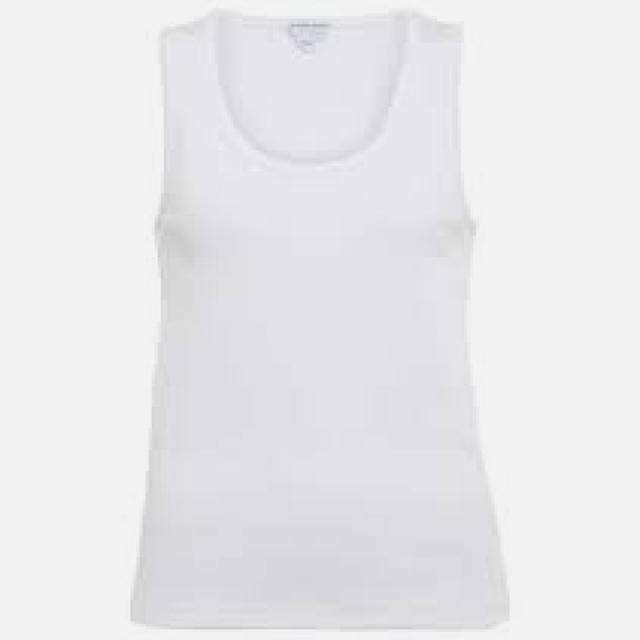no_vest: (127, 9, 511, 632)
